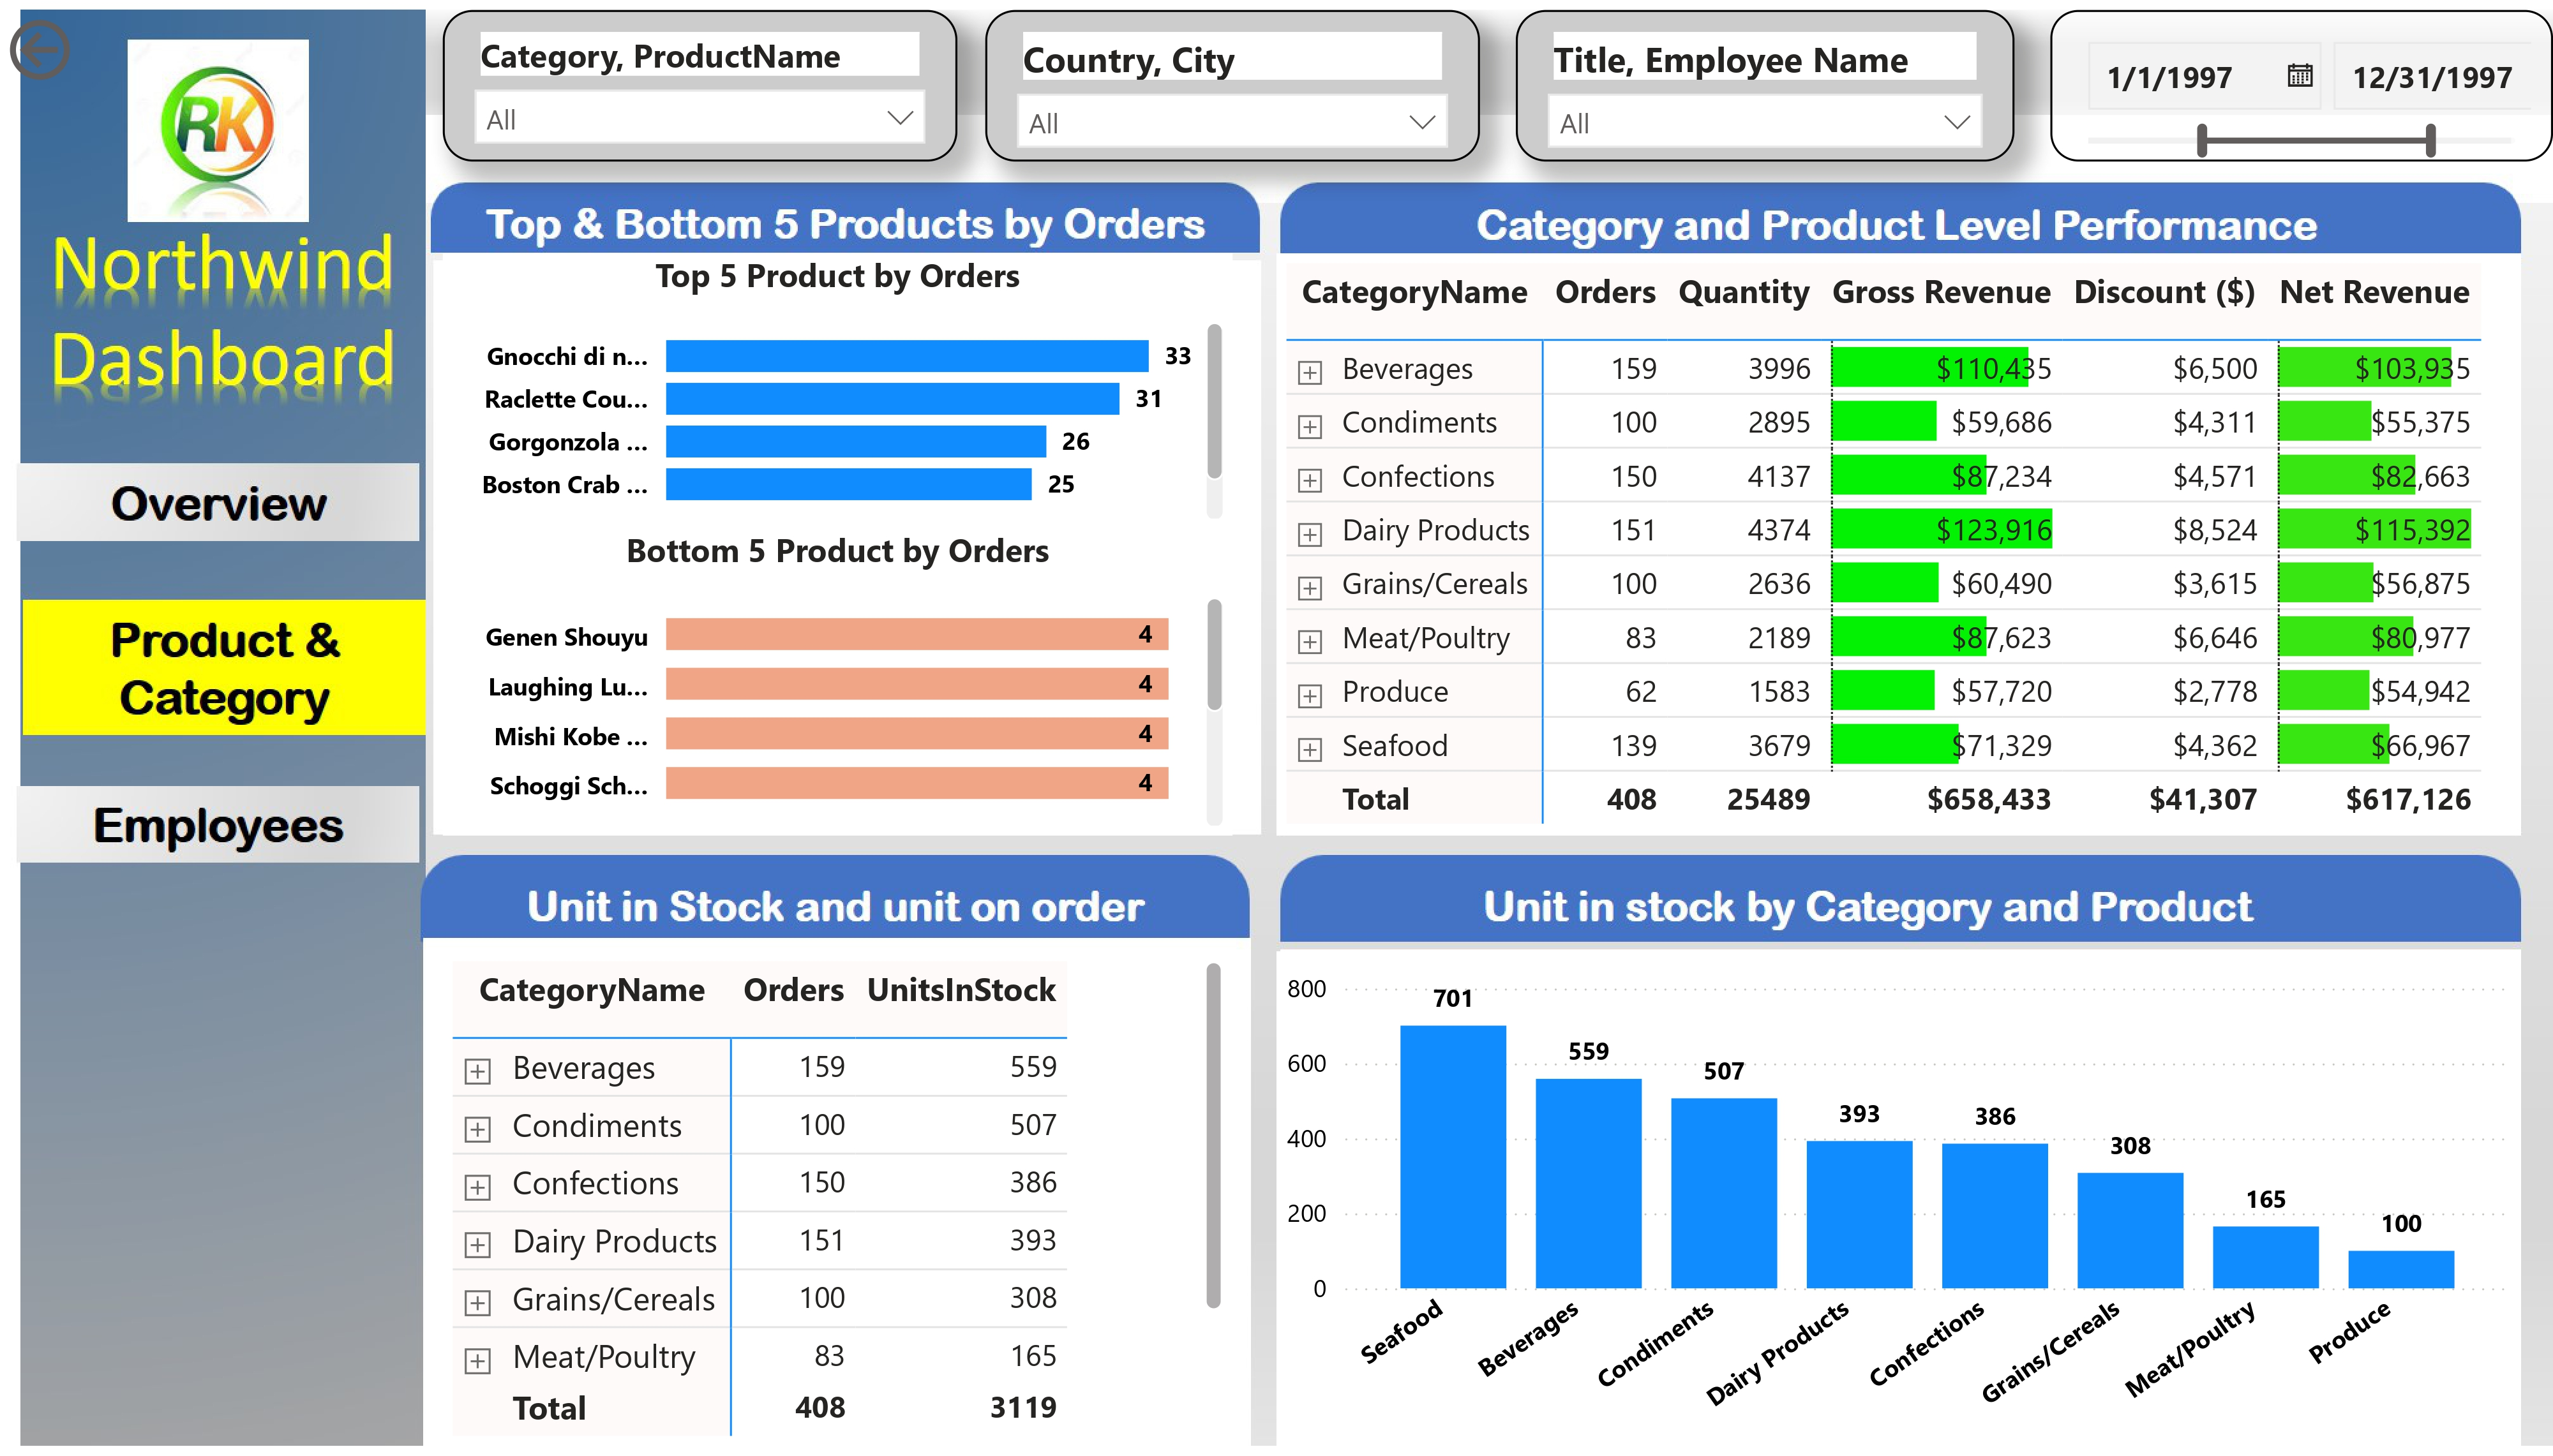

What the dashboard file says about the page in this screenshot:
{"tool":"powerbi","page":{"name":"Product and Category","canvas":[1280,720],"ordinal":1},"visuals":[{"type":"pivotTable","fields":{"Rows":["Products.CategoryName","Products.ProductName"],"Values":["Order_Details.Total Orders","Order_Details.Quantity","Order_Details.Gross Revenue","Order_Details.Discount ($)","Order_Details.Net Revenue"]},"box":[633,101.7,633,380.5],"z":0},{"type":"columnChart","fields":{"Category":["Products.CategoryName","Products.ProductName"],"Y":["Products.UnitsInStock"]},"box":[632.1,532.9,633.5,174.3],"z":1000},{"type":"clusteredBarChart","title":"Top 5 Product by Orders","fields":{"Category":["Products.ProductName"],"Y":["Order_Details.Orders"]},"box":[209.5,100.8,400.3,169.1],"z":2000},{"type":"clusteredBarChart","title":"Bottom 5 Product by Orders","fields":{"Category":["Products.ProductName"],"Y":["Order_Details.Orders"]},"box":[209.5,270,400.3,169.1],"z":3000},{"type":"pivotTable","fields":{"Rows":["Products.CategoryName","Products.ProductName"],"Values":["Products.UnitsInStock","Products.UnitsOnOrder"]},"box":[208.3,490.4,401.1,216.9],"z":4000},{"type":"slicer","fields":{"Values":["Suppliers.CompanyName"]},"box":[797.7,0,249.9,68.6],"z":5000},{"type":"actionButton","box":[0,142,192.9,40.3],"z":6000},{"type":"actionButton","box":[0,284.9,192.8,39.7],"z":7000},{"type":"actionButton","box":[9.9,610.9,42.5,39.7],"z":8000},{"type":"actionButton","box":[75.1,610.9,42.5,39.7],"z":9000},{"type":"actionButton","box":[144.6,609.4,42.5,39.7],"z":10000},{"type":"actionButton","box":[12.8,663.3,165.8,31.2],"z":11000},{"type":"slicer","fields":{"Values":["Order_Details.OrderDate"]},"box":[1086.5,0,192.9,68.6],"z":12000},{"type":"slicer","fields":{"Values":["Products.CategoryName","Products.ProductName"]},"box":[192.2,0,269,68.5],"z":13000},{"type":"slicer","fields":{"Values":["Order_Details.Country","Order_Details.City"]},"box":[494.6,1.7,275.7,68.5],"z":14000}]}

Visuals, with their boxes in screenshot pixels (x1, y1, x2, y2), scaled from the page's 1280x720 canvas onto the 2553x1456 screenshot:
pivotTable - Products.CategoryName x Products.ProductName: box(1262, 205, 2525, 975)
columnChart - Products.CategoryName x Products.ProductName: box(1261, 1078, 2524, 1430)
"Top 5 Product by Orders" clusteredBarChart: box(418, 204, 1217, 546)
"Bottom 5 Product by Orders" clusteredBarChart: box(418, 546, 1217, 888)
pivotTable - Products.CategoryName x Products.ProductName: box(416, 992, 1215, 1430)
slicer - Suppliers.CompanyName: box(1591, 0, 2090, 138)
actionButton: box(0, 287, 385, 369)
actionButton: box(0, 576, 384, 657)
actionButton: box(20, 1235, 105, 1316)
actionButton: box(150, 1235, 235, 1316)
actionButton: box(288, 1232, 373, 1312)
actionButton: box(26, 1341, 356, 1404)
slicer - Order_Details.OrderDate: box(2167, 0, 2552, 138)
slicer - Products.CategoryName x Products.ProductName: box(384, 0, 920, 138)
slicer - Order_Details.Country x Order_Details.City: box(987, 3, 1536, 142)
